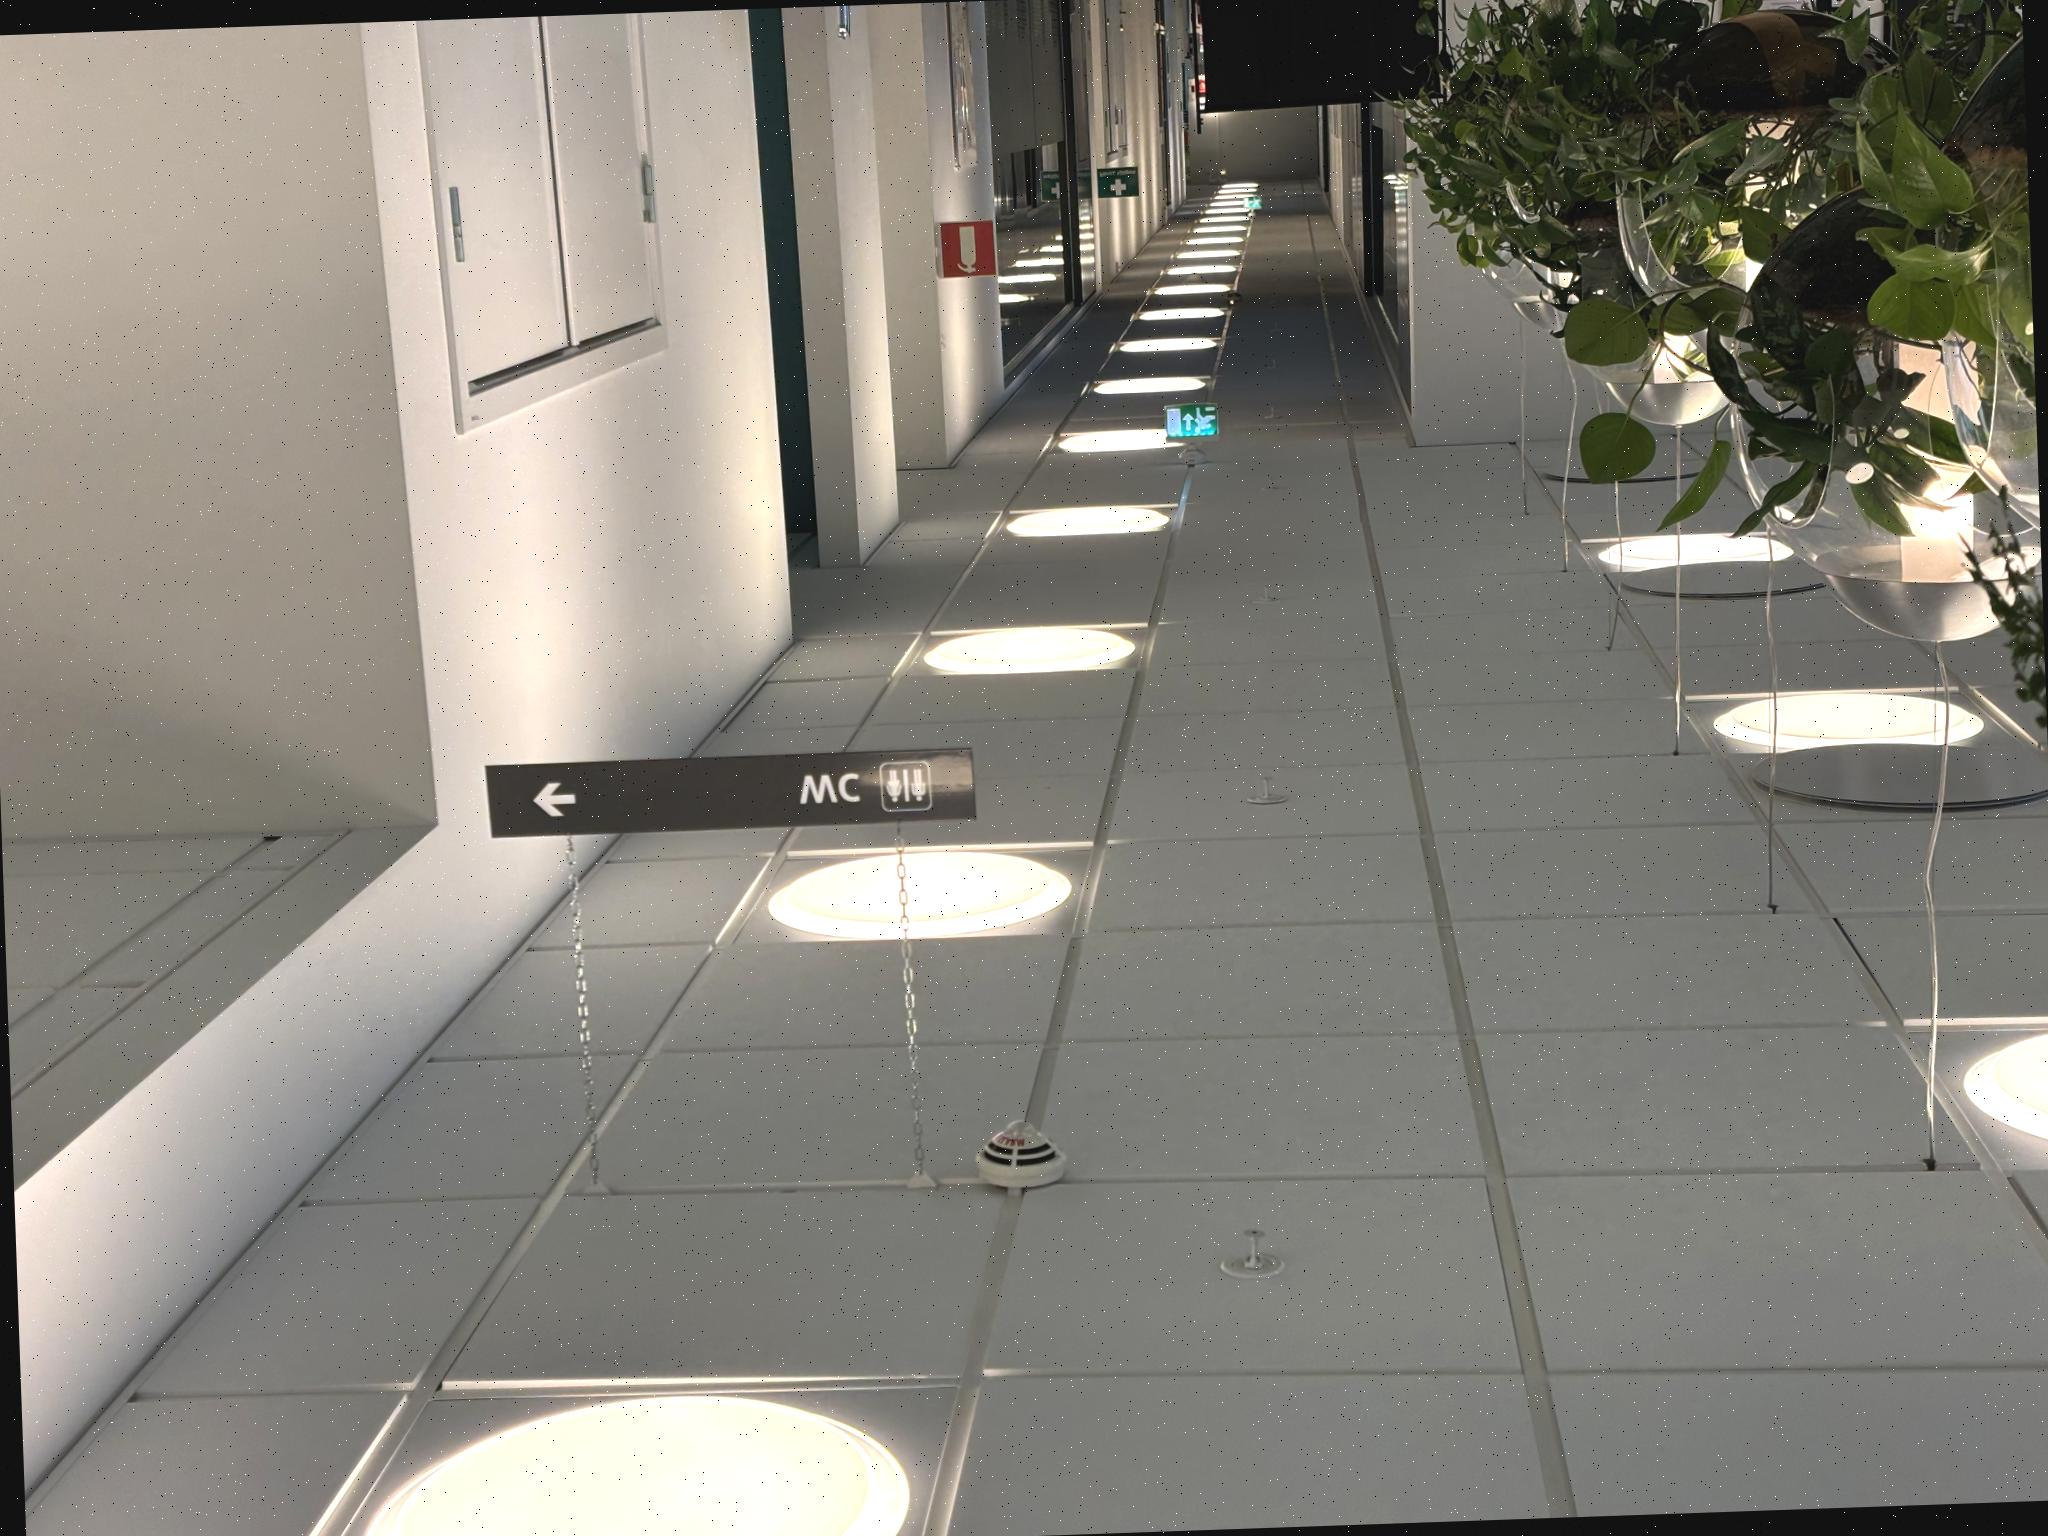exit_sign: (1161, 402, 1219, 452)
